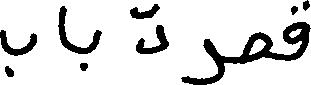X: (183, 34, 222, 84), (0, 25, 34, 81), (284, 0, 310, 65), (138, 0, 167, 58), (240, 27, 269, 68), (90, 25, 99, 57), (60, 1, 63, 50)
